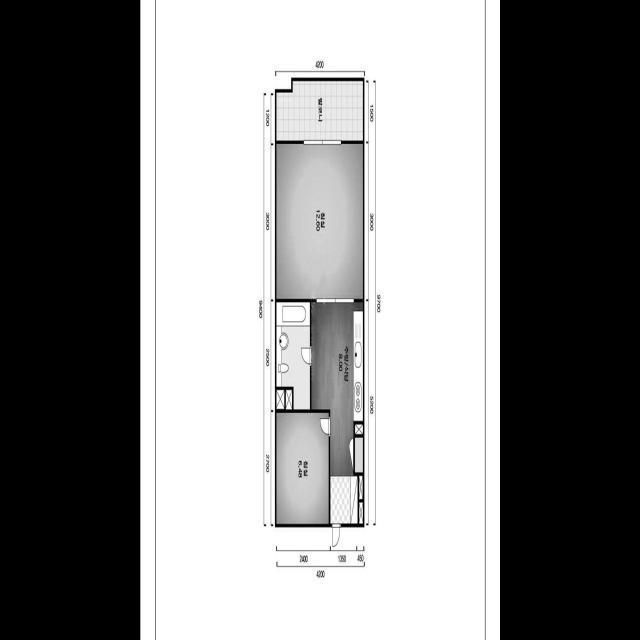background: (140, 0, 500, 640)
space_balconi: (276, 81, 363, 141)
space_bedroom: (276, 144, 363, 299), (276, 412, 329, 524)
space_front: (330, 476, 357, 524)
space_kitchen: (353, 311, 363, 421)
space_living_room: (311, 302, 362, 476)
space_other: (354, 437, 363, 473), (276, 390, 284, 409), (285, 390, 292, 409), (359, 502, 363, 524), (355, 424, 363, 435), (359, 476, 362, 499)
space_toilet: (276, 302, 310, 410)
